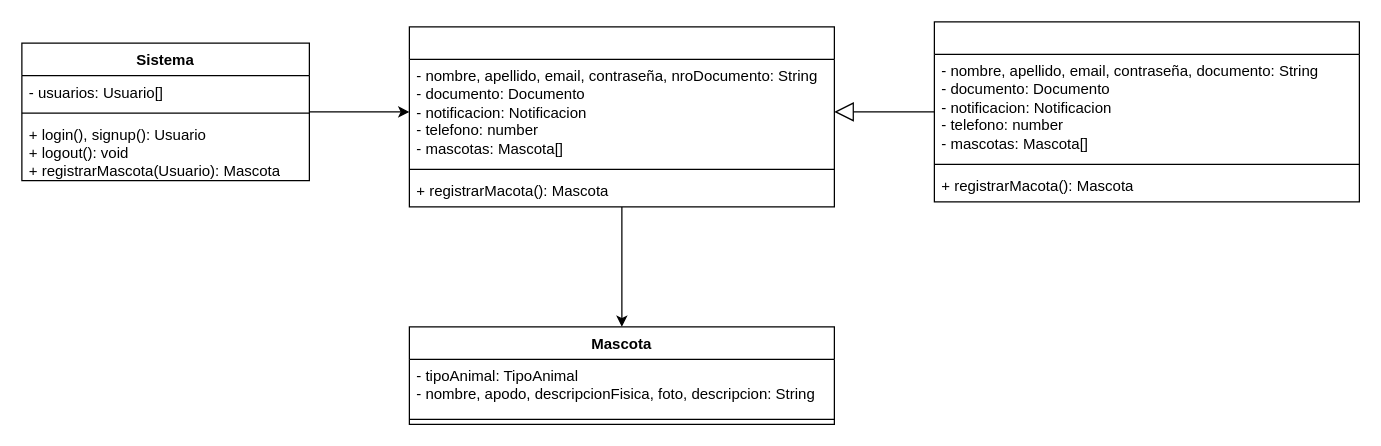
Some shapes in this 1381 by 446 pixel diagram are drawn without their labels. The box of each missing label's shape, as (x1, y1, x2, y2) in pixels:
Usuario: (408, 26, 834, 207)
UsuarioAdministrador: (933, 21, 1359, 202)
